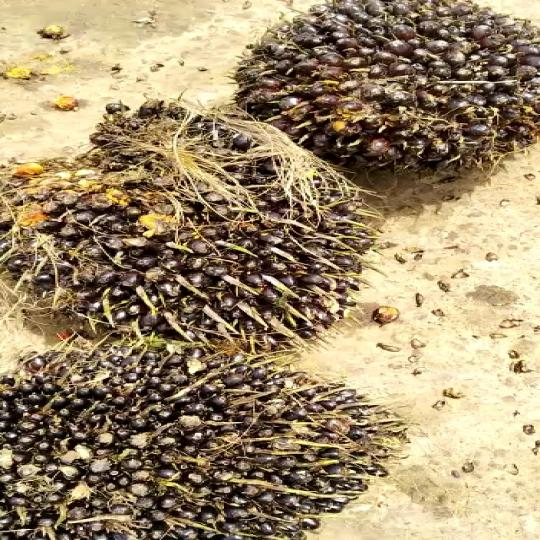mentah: (0, 96, 387, 350), (0, 351, 439, 540), (219, 0, 540, 179)
